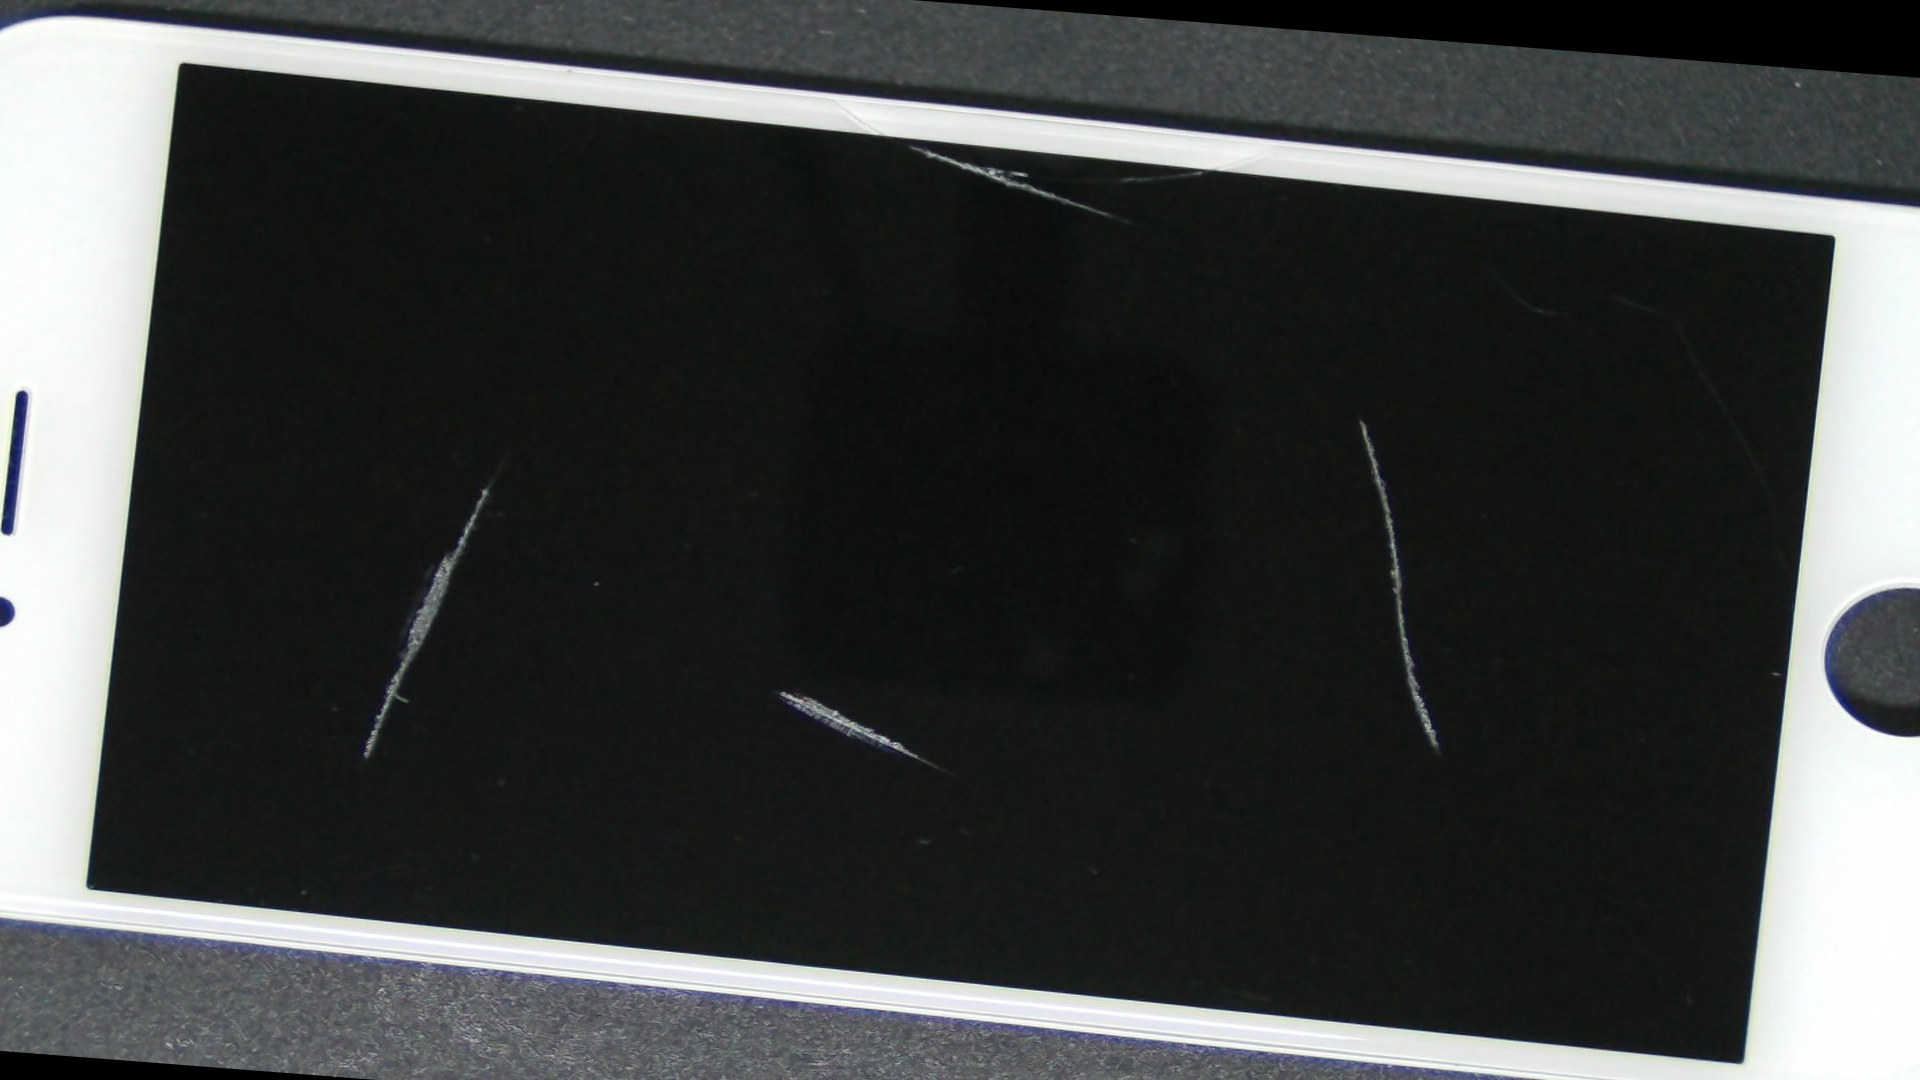oil: (284, 305, 1283, 1075), (596, 170, 1920, 667), (149, 204, 823, 771), (386, 32, 1423, 256)
